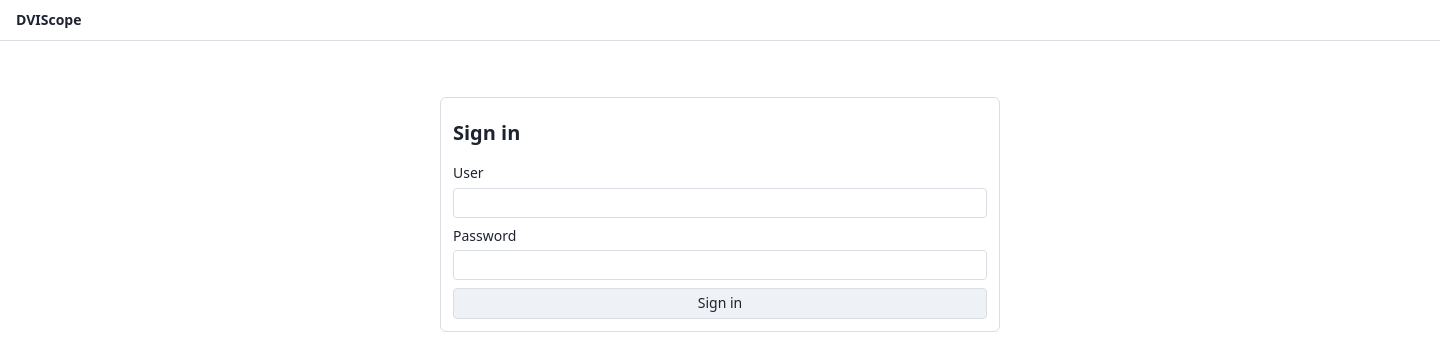
Test case: session › redirects to sign-in on 401 and returns after login with the CSRF token kept
Expected: the heading "Sign in" is shown, x1=453 y1=119 x2=520 y2=146
In the field labelled "User": point(720, 203) x1=453 y1=188 x2=987 y2=218, type "ann"
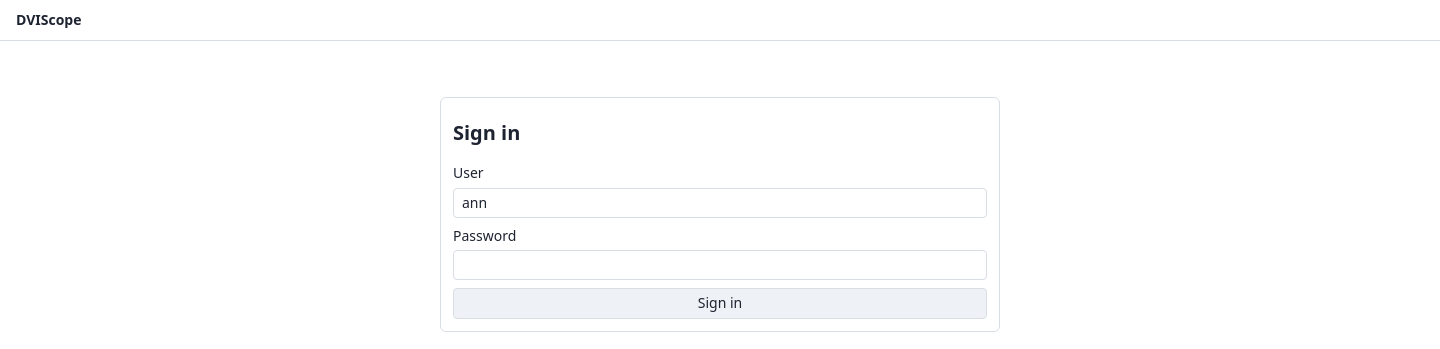
In the password field labelled "Password": point(720, 265) x1=453 y1=250 x2=987 y2=280, type "pw"
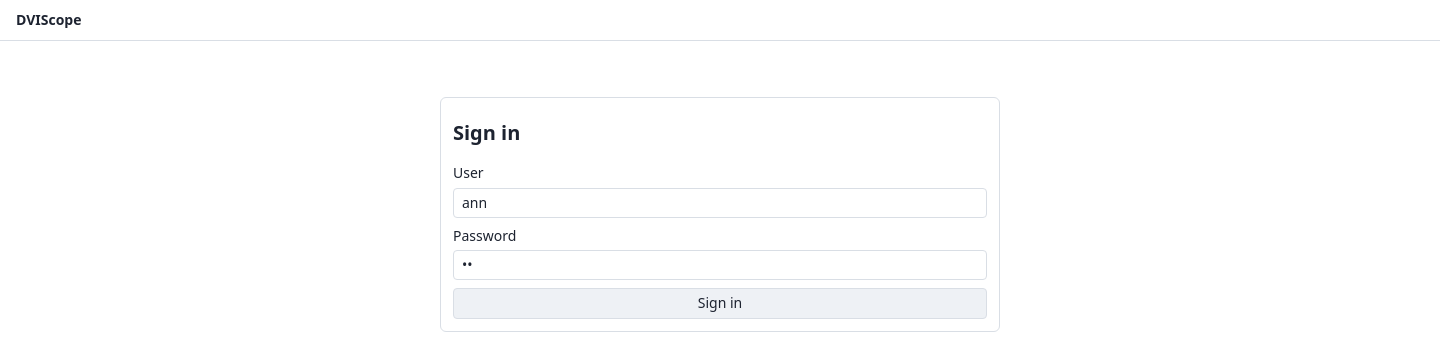
Click the button "Sign in": point(720, 304) x1=453 y1=288 x2=987 y2=319
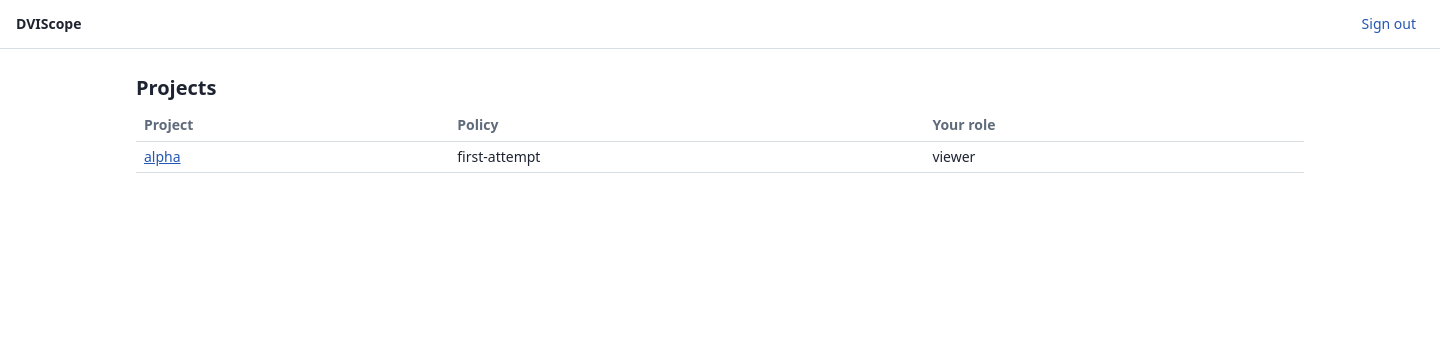
Now the link "alpha" is shown, box x1=144 y1=147 x2=181 y2=166
